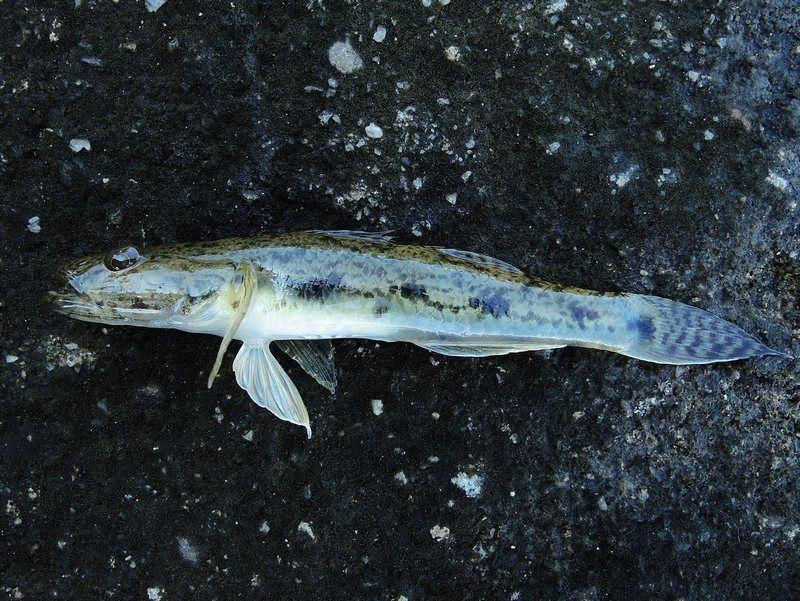Goby: (64, 215, 780, 432)
